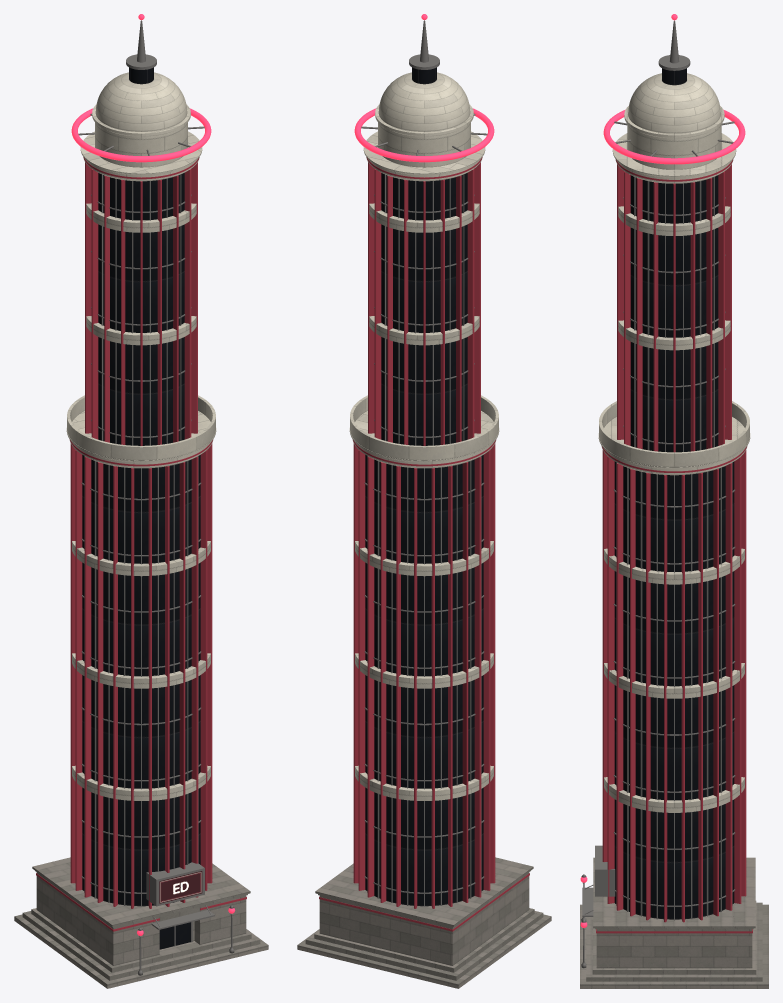
File: ecology-dao.glb
3 renders of one model, left to right at view 1: azimuth 30°, elevation 25°; view 2: azimuth 150°, elevation 25°; view 3: azimuth 270°, elevation 25°, orthographic.
Parts seen in each view (by area): view 1: Landmark · Ecology DAO; view 2: Landmark · Ecology DAO; view 3: Landmark · Ecology DAO.
Part boxes in pixels (box(x1,y1,x2,y2)): Landmark · Ecology DAO: box(14, 14, 268, 988); Landmark · Ecology DAO: box(297, 14, 551, 988); Landmark · Ecology DAO: box(580, 14, 768, 988).
Bounding box in the file's own units: 12 × 65.5 × 12.
7 materials, 4 textured.
